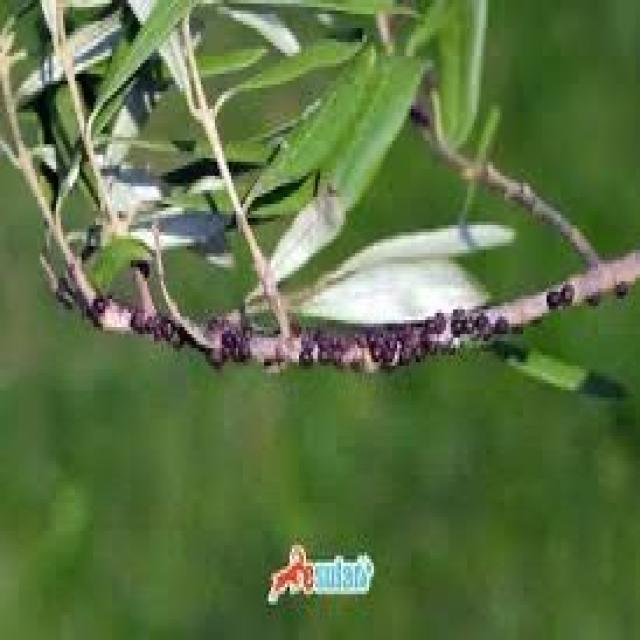Black Scale: (290, 309, 509, 374), (200, 310, 251, 377), (549, 278, 582, 309)
